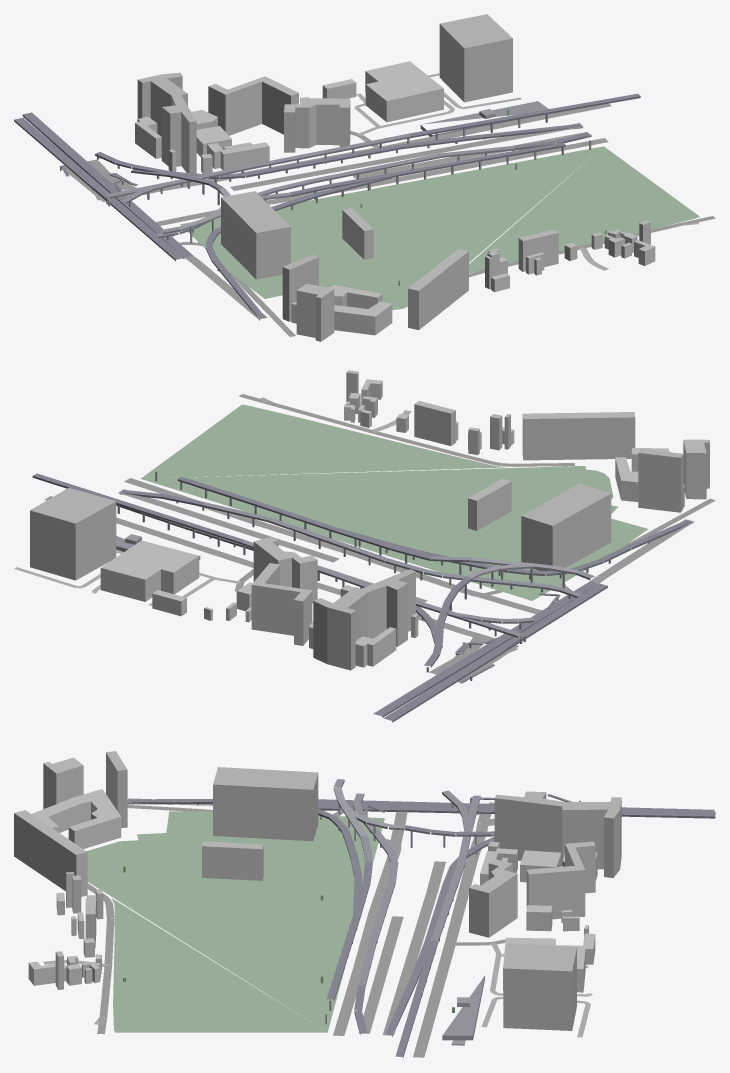
The picture shows the model from 3 angles, top to bottom: view 1: azimuth 30°, elevation 25°; view 2: azimuth 150°, elevation 25°; view 3: azimuth 270°, elevation 25°; orthographic projection. The views are drawn at different scales.
Size of the model in its own units: 587 by 73.13 by 640.
